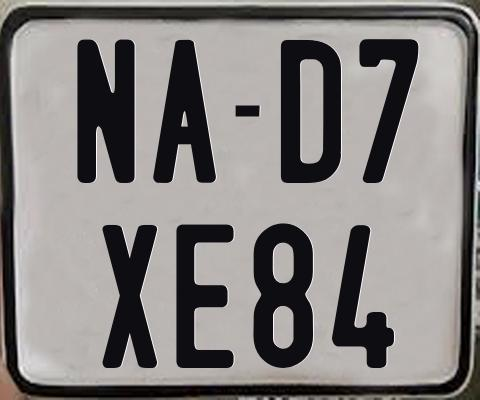4: (329, 222, 397, 368)
7: (359, 37, 421, 186)
8: (250, 222, 313, 367)
A: (152, 40, 218, 185)
D: (278, 38, 344, 186)
E: (175, 223, 233, 373)
N: (74, 36, 134, 182)
X: (102, 222, 159, 365)
